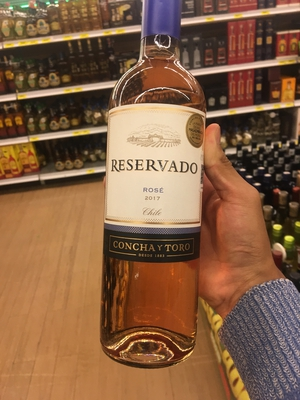reservado rose: (101, 5, 204, 377)
